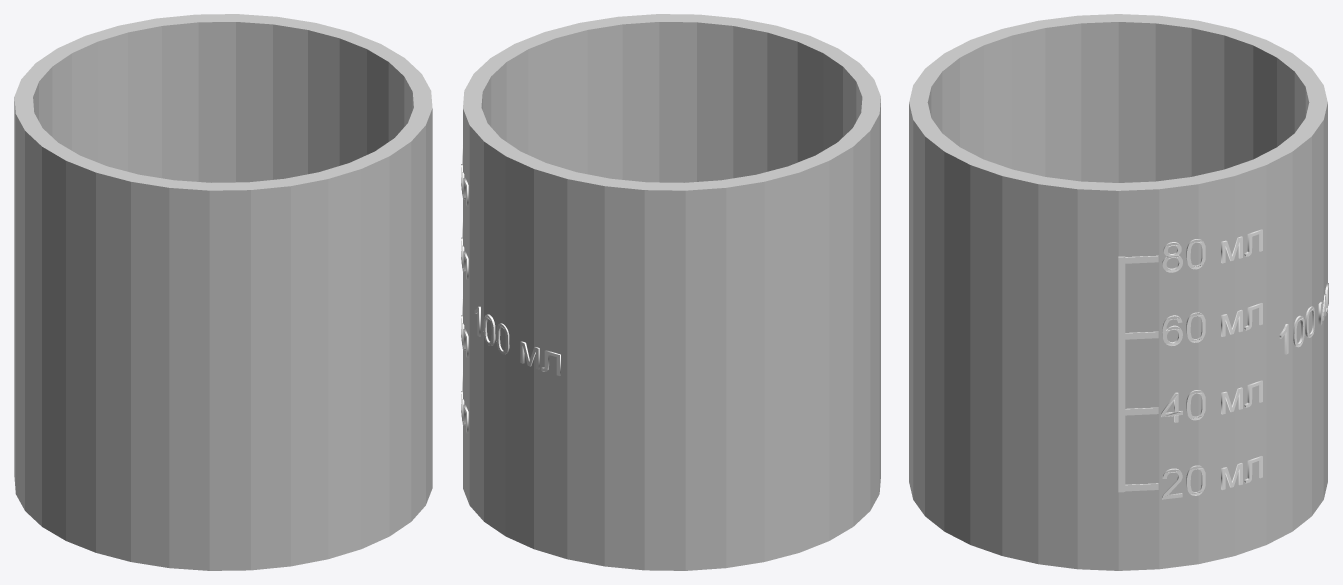
Rendered from Glass.fbx.
3 renders of one model, left to right at view 1: azimuth 30°, elevation 25°; view 2: azimuth 150°, elevation 25°; view 3: azimuth 270°, elevation 25°, orthographic.
Visible parts, largest first — view 1: Body; view 2: Body, Text; view 3: Body, Text.
Boxes of the visible parts, x1,y1,x2,y2 form: Body: (14,14,432,570); Body: (463,14,880,570); Text: (461,145,560,433); Body: (909,14,1327,570); Text: (1118,229,1328,499).
Bounding box in the file's own units: 201 × 200 × 200.
